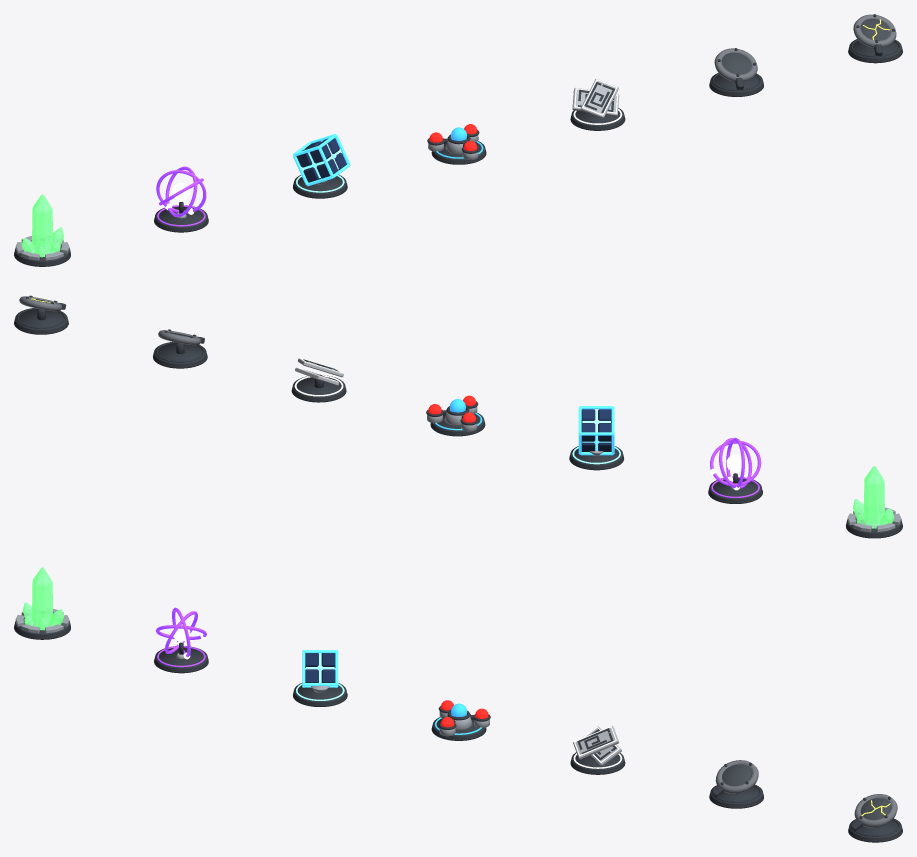
Rendered from sb_match3_lab.glb.
3 views of the same model, one above another, from view 1: azimuth 30°, elevation 25°; view 2: azimuth 150°, elevation 25°; view 3: azimuth 330°, elevation 25° (orthographic).
Parts seen in each view (by area): view 1: SB_MATCH3_TILE_LAB_METAL, SB_MATCH3_TILE_LAB_CRISTAL, SB_MATCH3_TILE_LAB_ENERGIE, SB_MATCH3_TILE_LAB_ARTEFACT, SB_MATCH3_TILE_LAB_ROCK_CRACKED, SB_MATCH3_TILE_LAB_ROCK, SB_MATCH3_TILE_LAB_BIOMASS; view 2: SB_MATCH3_TILE_LAB_METAL, SB_MATCH3_TILE_LAB_ENERGIE, SB_MATCH3_TILE_LAB_CRISTAL, SB_MATCH3_TILE_LAB_BIOMASS, SB_MATCH3_TILE_LAB_ARTEFACT, SB_MATCH3_TILE_LAB_ROCK, SB_MATCH3_TILE_LAB_ROCK_CRACKED; view 3: SB_MATCH3_TILE_LAB_METAL, SB_MATCH3_TILE_LAB_CRISTAL, SB_MATCH3_TILE_LAB_ENERGIE, SB_MATCH3_TILE_LAB_ROCK, SB_MATCH3_TILE_LAB_ROCK_CRACKED, SB_MATCH3_TILE_LAB_ARTEFACT, SB_MATCH3_TILE_LAB_BIOMASS.
Boxes of the visible parts, x1,y1,x2,y2 form: SB_MATCH3_TILE_LAB_METAL: (293, 134, 350, 198); SB_MATCH3_TILE_LAB_CRISTAL: (14, 194, 70, 266); SB_MATCH3_TILE_LAB_ENERGIE: (154, 166, 208, 232); SB_MATCH3_TILE_LAB_ARTEFACT: (570, 79, 625, 130); SB_MATCH3_TILE_LAB_ROCK_CRACKED: (848, 14, 902, 63); SB_MATCH3_TILE_LAB_ROCK: (709, 48, 763, 96); SB_MATCH3_TILE_LAB_BIOMASS: (427, 124, 486, 164); SB_MATCH3_TILE_LAB_METAL: (569, 406, 623, 470); SB_MATCH3_TILE_LAB_ENERGIE: (708, 437, 762, 503); SB_MATCH3_TILE_LAB_CRISTAL: (846, 466, 902, 538); SB_MATCH3_TILE_LAB_BIOMASS: (426, 395, 485, 436); SB_MATCH3_TILE_LAB_ARTEFACT: (291, 358, 346, 402); SB_MATCH3_TILE_LAB_ROCK: (153, 329, 207, 368); SB_MATCH3_TILE_LAB_ROCK_CRACKED: (14, 295, 68, 334); SB_MATCH3_TILE_LAB_METAL: (293, 650, 347, 706); SB_MATCH3_TILE_LAB_CRISTAL: (14, 567, 70, 639); SB_MATCH3_TILE_LAB_ENERGIE: (154, 607, 208, 673); SB_MATCH3_TILE_LAB_ROCK: (709, 760, 763, 808); SB_MATCH3_TILE_LAB_ROCK_CRACKED: (848, 794, 902, 842); SB_MATCH3_TILE_LAB_ARTEFACT: (570, 726, 625, 774); SB_MATCH3_TILE_LAB_BIOMASS: (431, 700, 490, 740).
Size of the model in its own units: 8.89 by 0.5764 by 0.528.
